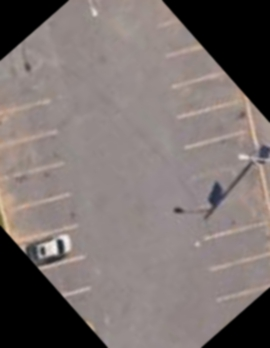parkingspot: (143, 0, 270, 336), (0, 93, 108, 325)
